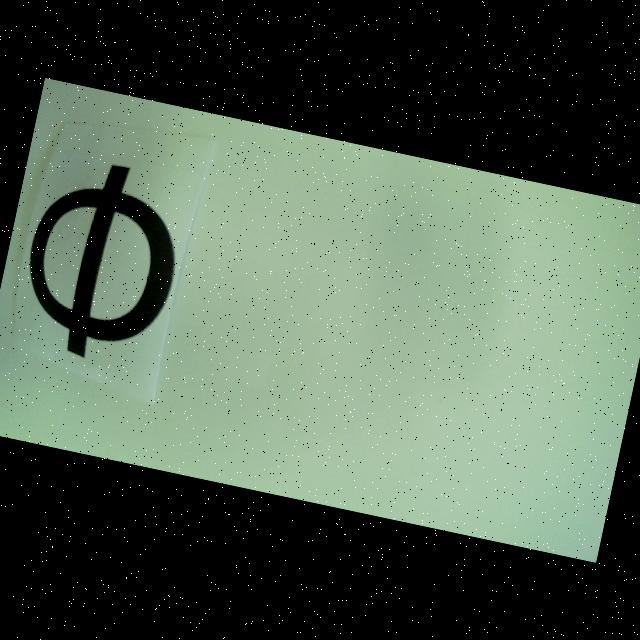PHI: (12, 150, 194, 373)
